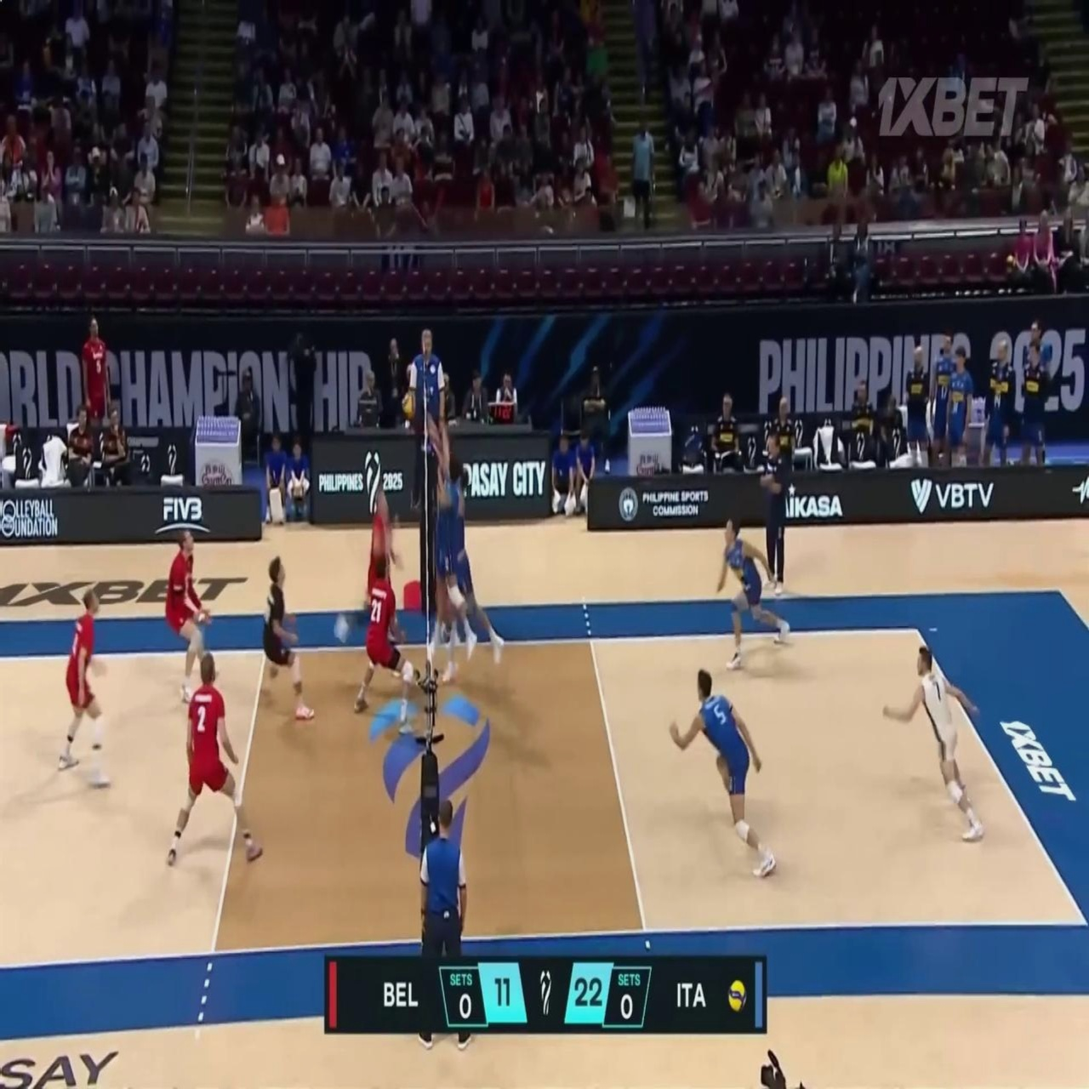ball: (402, 388, 416, 418)
